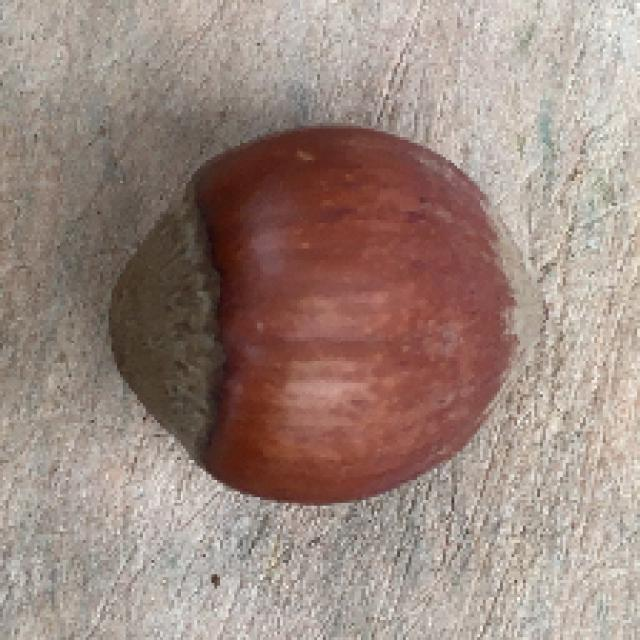QualityHazelnut: (108, 120, 548, 502)
